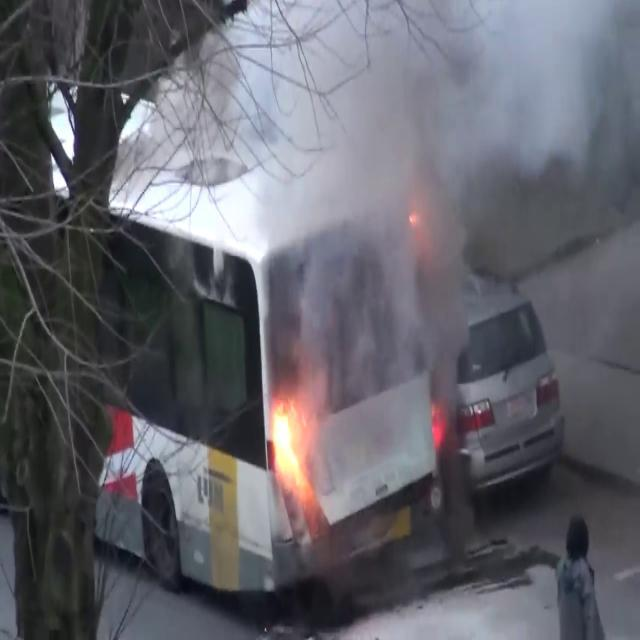Fire: (267, 381, 312, 501)
Smoke: (280, 1, 516, 462)
